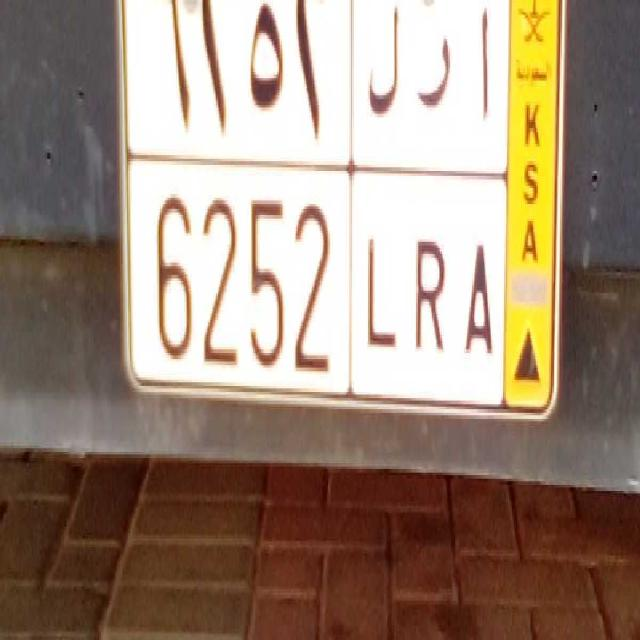license_plate: (145, 155, 499, 409)
